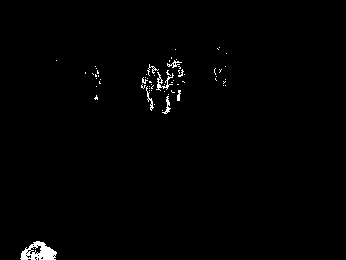person: (161, 55, 185, 116), (139, 62, 163, 113)
